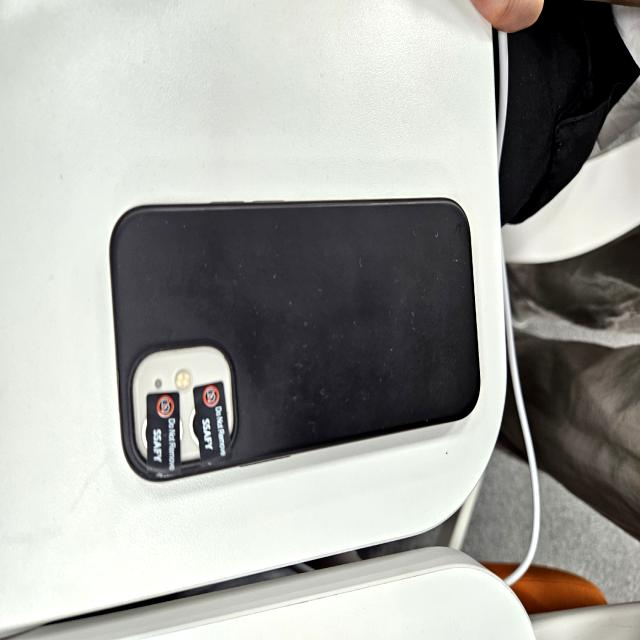phone: (111, 196, 479, 481)
sticker: (192, 379, 233, 464), (145, 389, 183, 477)
